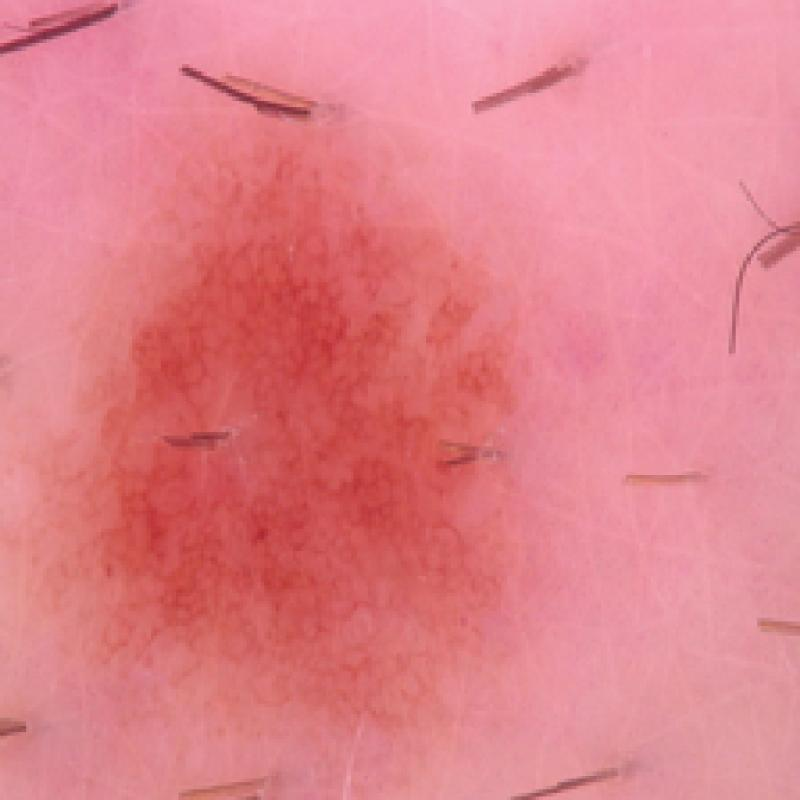benign: (52, 99, 567, 757)
